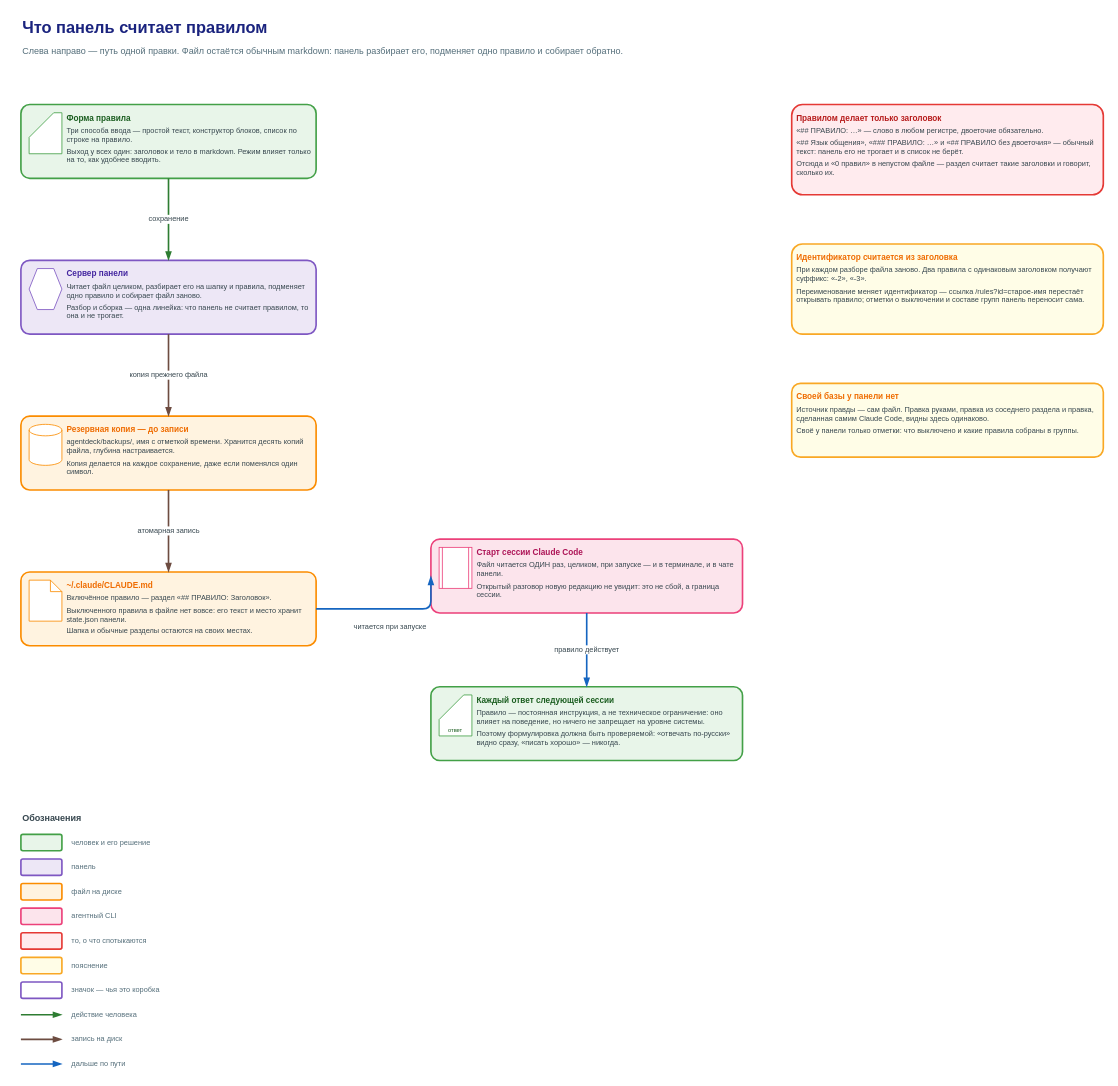
Image size: 1118x1086. Some labels were removed from this diagram. Each missing label, with the centre of its shape:
"API" goes at point (45, 289).
"bak" goes at point (45, 444).
"CLI" goes at point (455, 567).
"md" goes at point (45, 600).
"вы" goes at point (45, 133).
